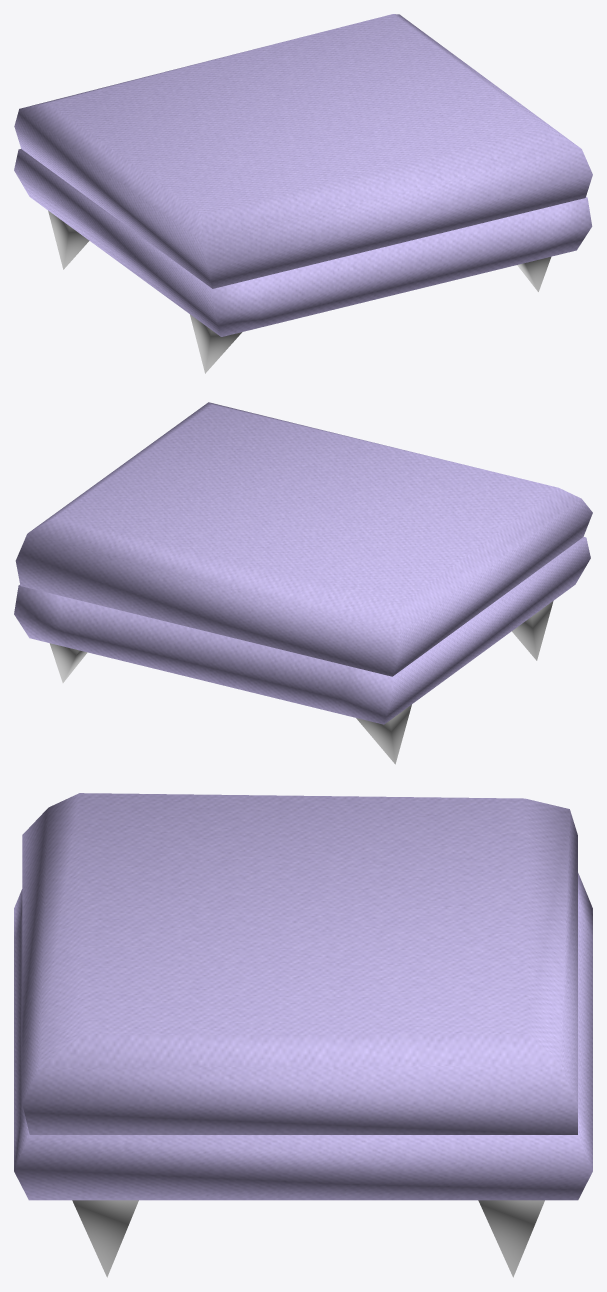
Rendered from Ottoman_A_15.FBX.
3 views of the same model, one above another, from view 1: azimuth 30°, elevation 25°; view 2: azimuth 150°, elevation 25°; view 3: azimuth 270°, elevation 25° (orthographic). The views are drawn at different scales.
Parts seen in each view (by area): view 1: Ottoman; view 2: Ottoman; view 3: Ottoman.
Boxes of the visible parts, x1=… form: Ottoman: x1=14, y1=14, x2=592, y2=373; Ottoman: x1=14, y1=402, x2=592, y2=764; Ottoman: x1=14, y1=793, x2=592, y2=1277.
Bounding box in the file's own units: 190 × 80.28 × 173.
